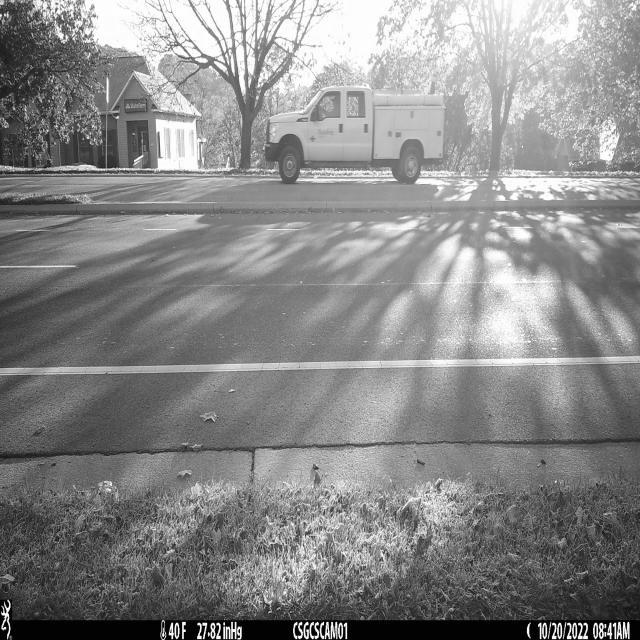Pickup- Utility: (266, 86, 447, 185)
